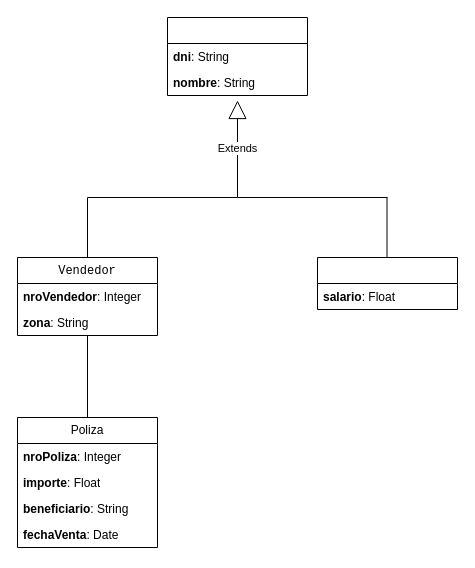
Some shapes in this 475 by 568 pixel diagram are drawn without their labels. Each missing label, with the box of its shape:
Empleado: (166, 16, 308, 96)
Jefe: (316, 256, 458, 310)
